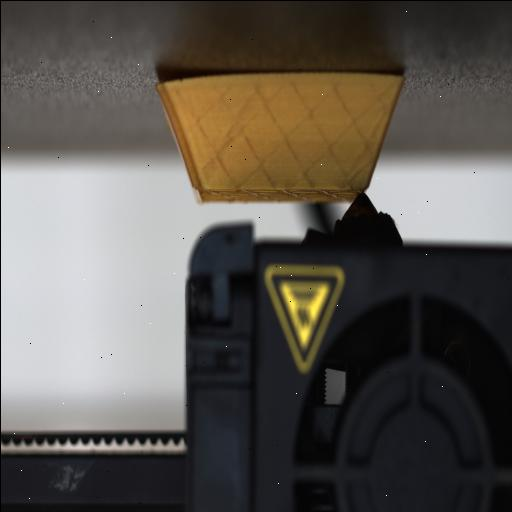warp: (152, 69, 202, 107)
